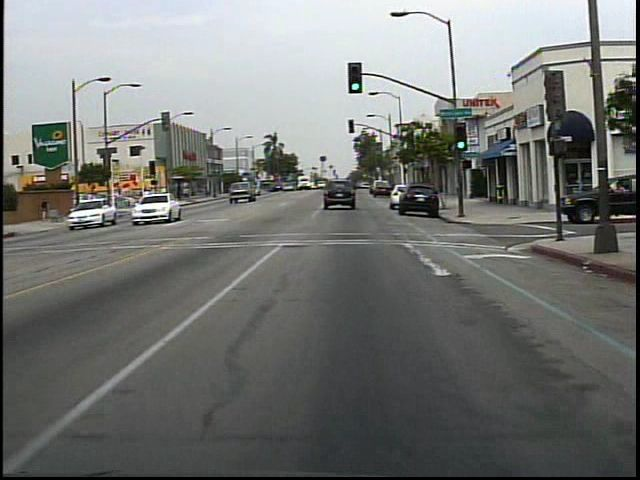person: (38, 195, 57, 224), (141, 185, 157, 209)
